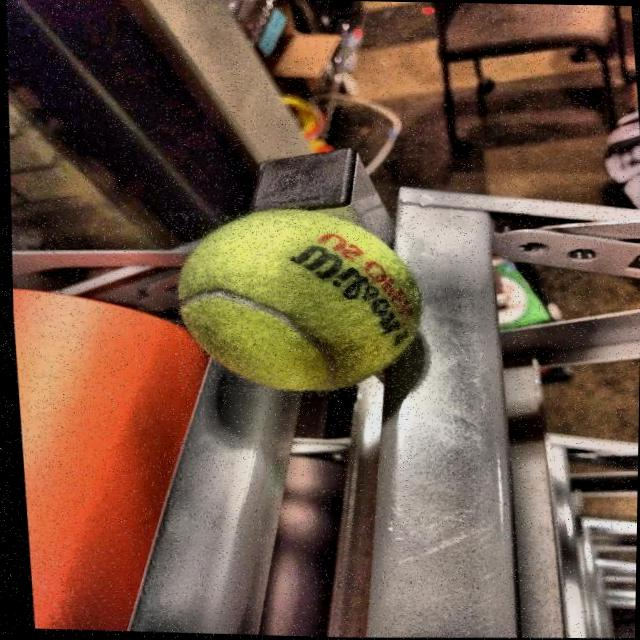Tennis Ball: (162, 205, 427, 404)
